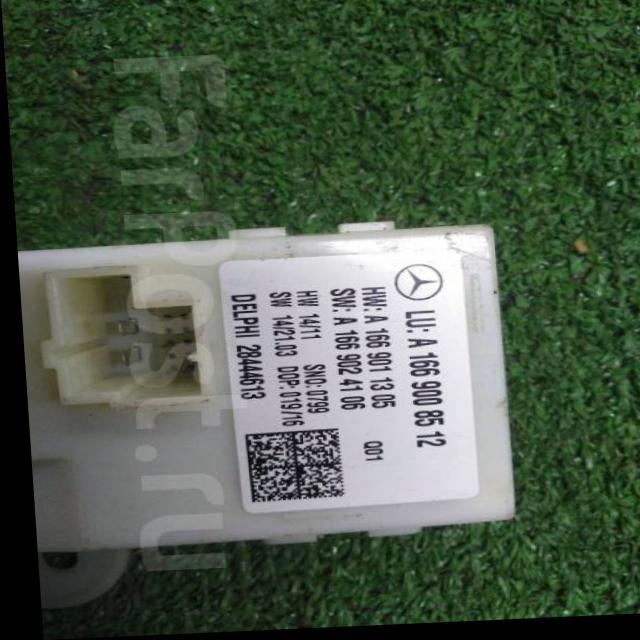datamatrix: (239, 432, 338, 506)
